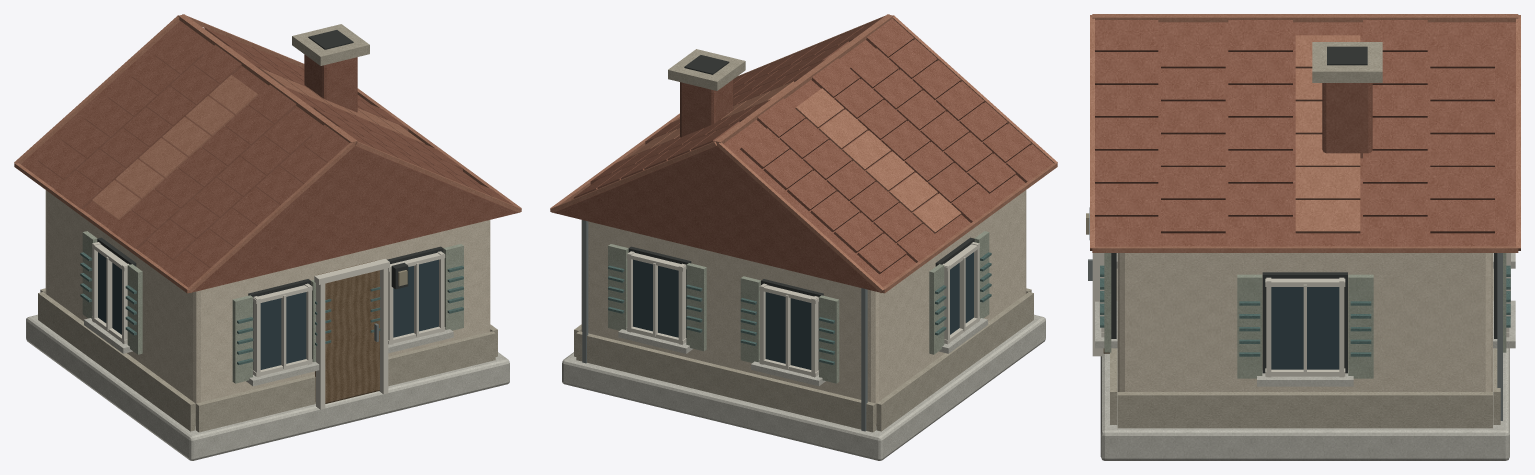
Rendered from RES_LOW_1x1_001.glb.
3 renders of one model, left to right at view 1: azimuth 30°, elevation 25°; view 2: azimuth 150°, elevation 25°; view 3: azimuth 270°, elevation 25°, orthographic. The views are drawn at different scales.
Parts seen in each view (by area): view 1: RES_LOW_1x1_001_Visual; view 2: RES_LOW_1x1_001_Visual; view 3: RES_LOW_1x1_001_Visual.
Boxes of the visible parts, box(x1,y1,x2,y2) form: RES_LOW_1x1_001_Visual: box(14, 14, 521, 460); RES_LOW_1x1_001_Visual: box(550, 14, 1057, 460); RES_LOW_1x1_001_Visual: box(1086, 14, 1520, 460).
Size of what is drawn, in the model's own units: 1.7 by 1.41 by 1.55.
13 materials, 8 textured.
